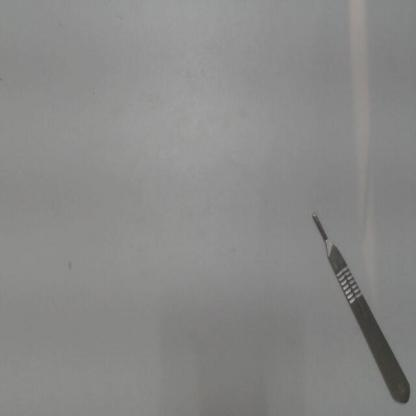No.3 BP Handle: (302, 198, 414, 412)
